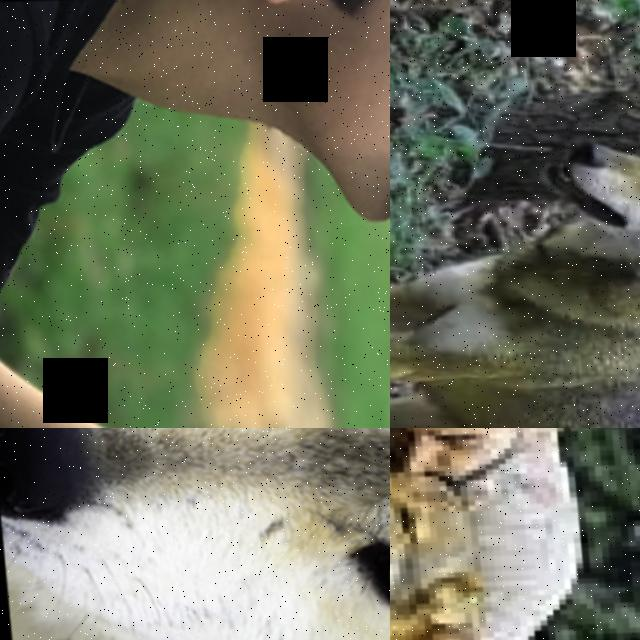wolf: (0, 125, 390, 428), (0, 428, 390, 640), (390, 98, 640, 428), (390, 449, 478, 640)
